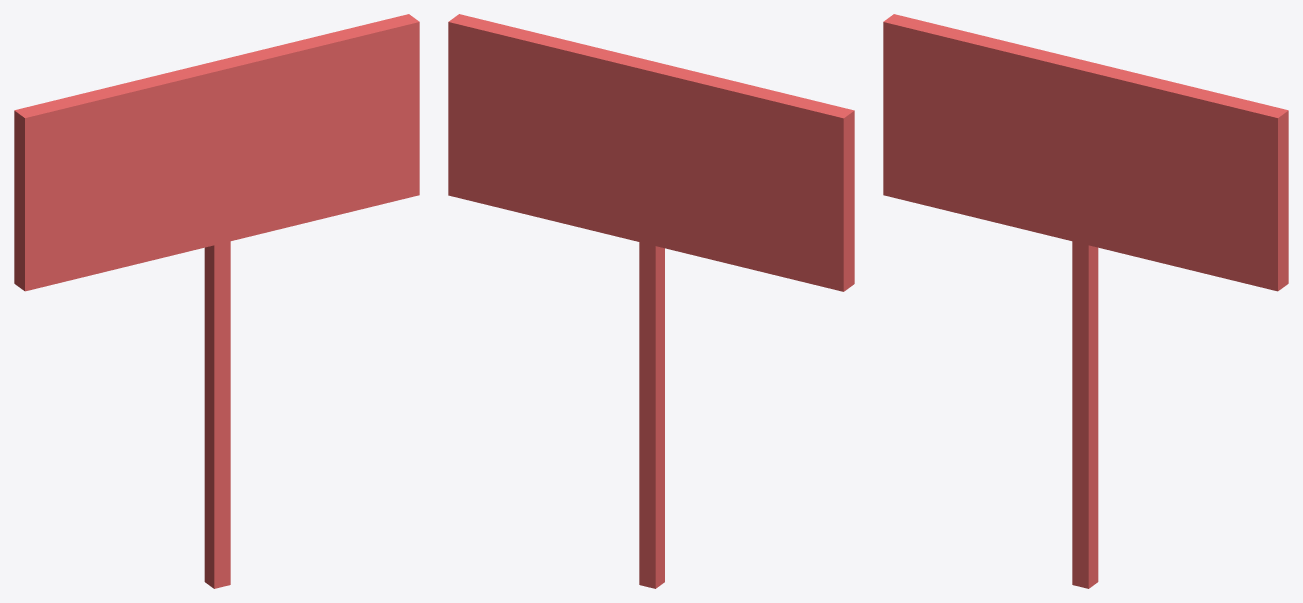
Rendered from Sign.fbx.
3 renders of one model, left to right at view 1: azimuth 30°, elevation 25°; view 2: azimuth 150°, elevation 25°; view 3: azimuth 330°, elevation 25°, orthographic.
Visible parts, largest first — view 1: RealSign; view 2: RealSign; view 3: RealSign.
Part boxes in pixels (x1=…): RealSign: x1=14, y1=14, x2=419, y2=588; RealSign: x1=448, y1=14, x2=854, y2=588; RealSign: x1=883, y1=14, x2=1288, y2=588.
Bounding box in the file's own units: 120 × 150 × 5.7.
